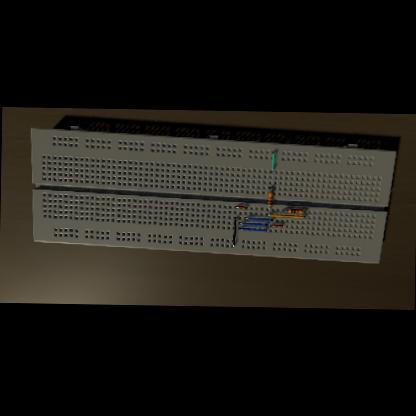breadboard: (28, 125, 396, 263)
resistor: (266, 192, 272, 206), (288, 208, 304, 213)
wire: (266, 213, 306, 218), (231, 216, 236, 246), (244, 217, 274, 221), (238, 222, 266, 226), (238, 228, 266, 232), (271, 150, 275, 172), (235, 206, 247, 209), (271, 224, 282, 226), (267, 206, 269, 210), (282, 210, 288, 211), (268, 188, 270, 190), (304, 211, 306, 212)
